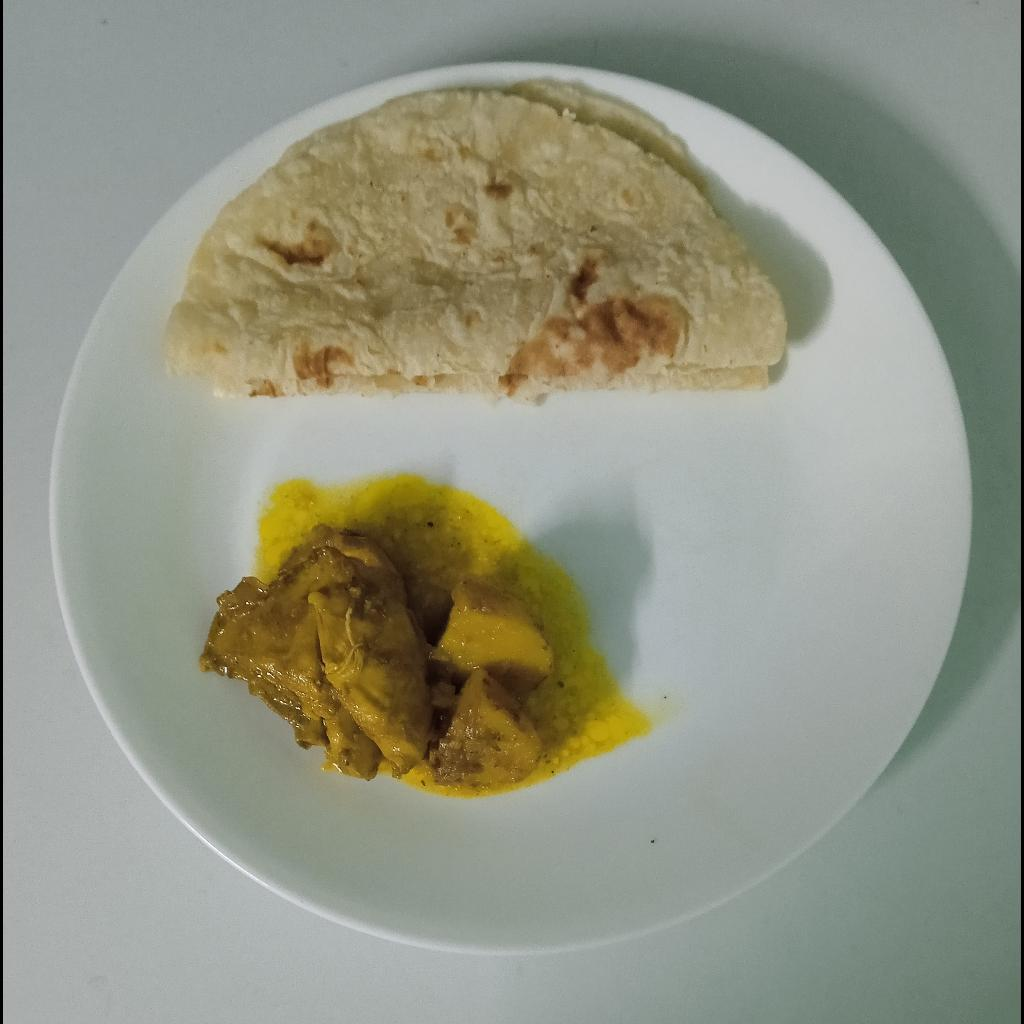chicken: (201, 523, 433, 777)
potato: (439, 585, 564, 796)
ruti: (160, 80, 794, 401)
